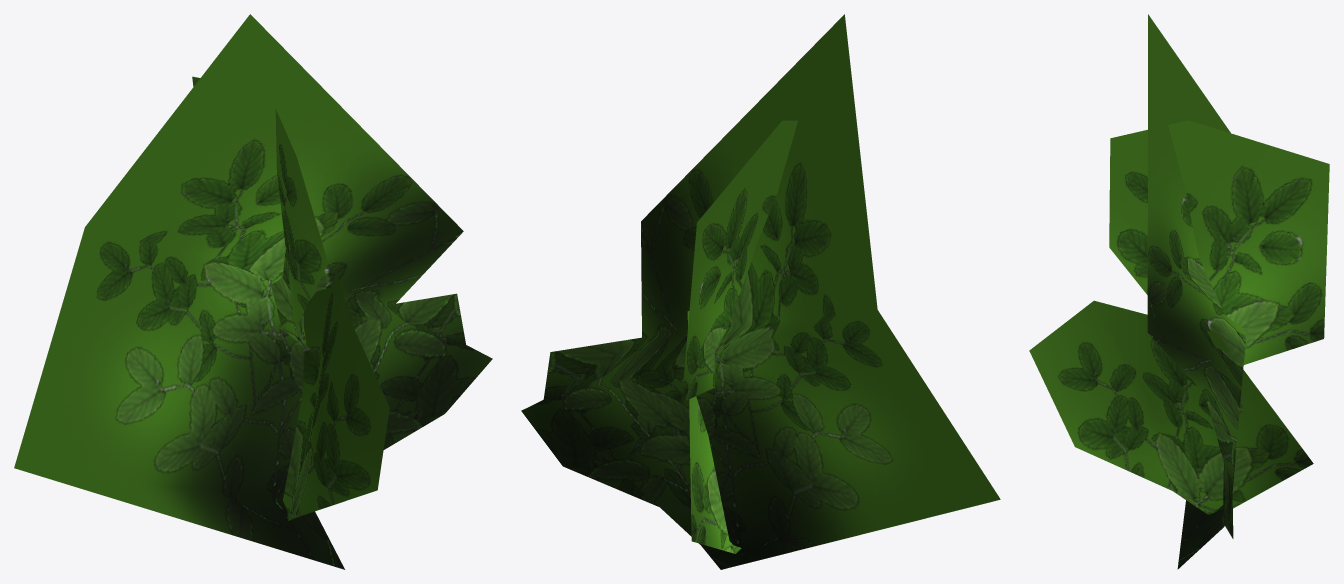
File: bush_3.fbx
3 renders of one model, left to right at view 1: azimuth 30°, elevation 25°; view 2: azimuth 150°, elevation 25°; view 3: azimuth 270°, elevation 25°, orthographic. The views are drawn at different scales.
Visible parts, largest first — view 1: Bush_3; view 2: Bush_3; view 3: Bush_3.
Boxes of the visible parts, x1,y1,x2,y2 form: Bush_3: (14,14,492,569); Bush_3: (521,14,1000,569); Bush_3: (1029,14,1329,569).
Bounding box in the file's own units: 5.13 × 5.96 × 3.19.
